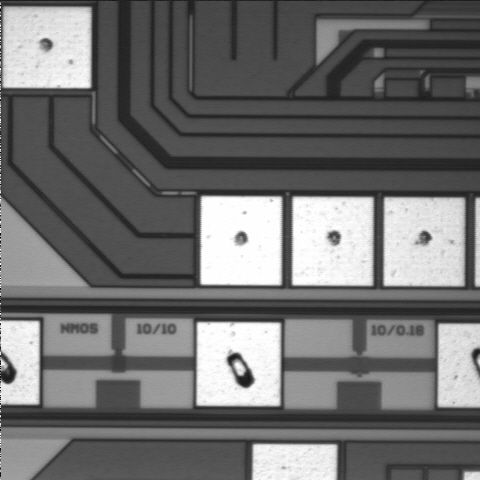pad: (200, 196, 282, 285), (292, 197, 373, 286), (3, 7, 91, 88), (197, 322, 281, 406), (384, 198, 464, 286)
